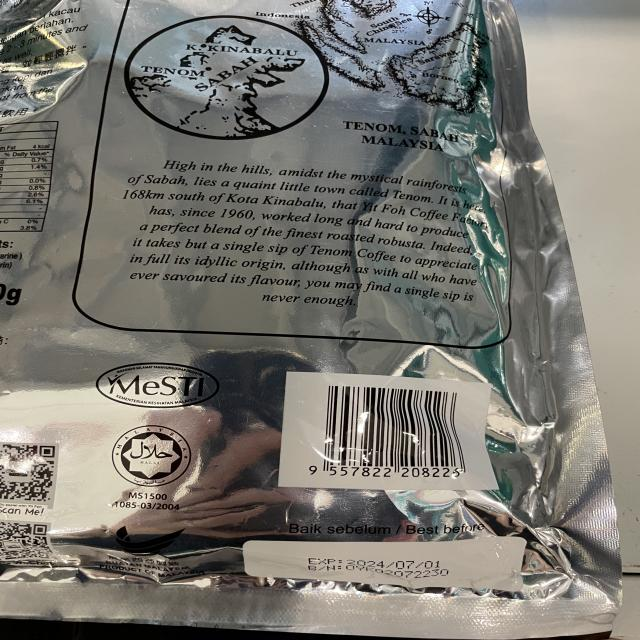object_name: (5, 0, 606, 638)
